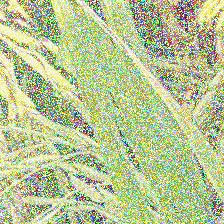Leaf_Blast: (68, 5, 172, 95)
